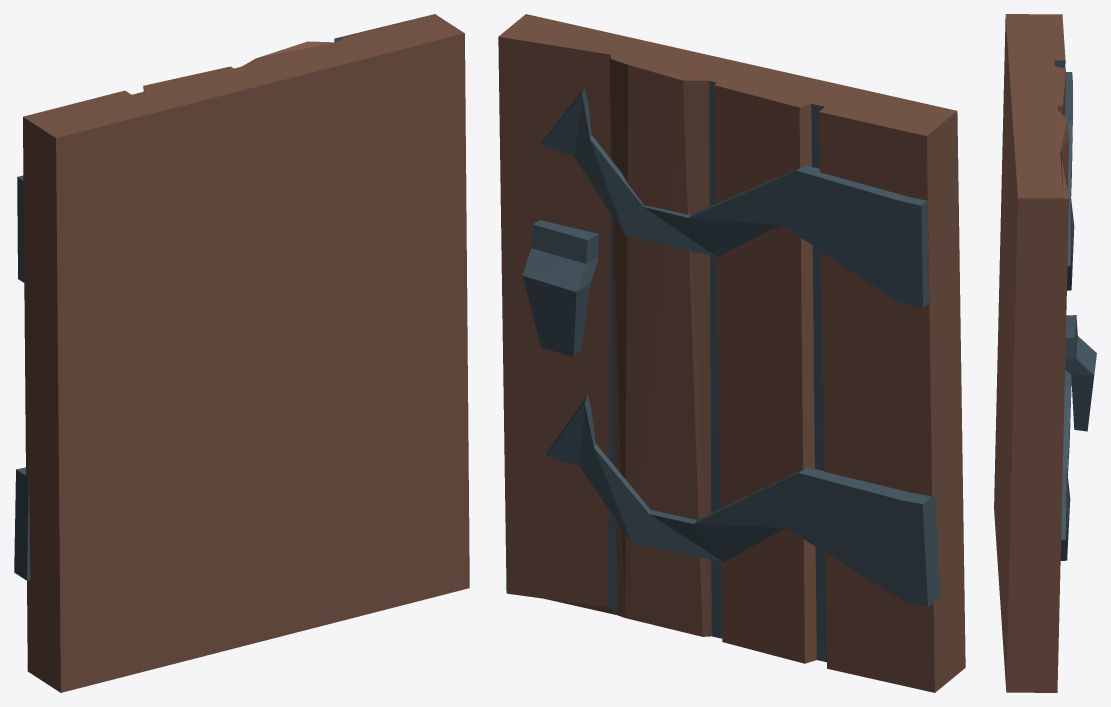
Rendered from Right.fbx.
The picture shows the model from 3 angles, left to right: view 1: azimuth 30°, elevation 25°; view 2: azimuth 150°, elevation 25°; view 3: azimuth 270°, elevation 25°; orthographic projection. The views are drawn at different scales.
Visible parts, largest first — view 1: Keg wall.009; view 2: Keg wall.009; view 3: Keg wall.009.
Boxes of the visible parts, x1,y1,x2,y2 form: Keg wall.009: [14, 14, 469, 692]; Keg wall.009: [498, 14, 965, 692]; Keg wall.009: [994, 14, 1096, 692].
Size of the model in its own units: 77.17 by 96.78 by 18.09.
